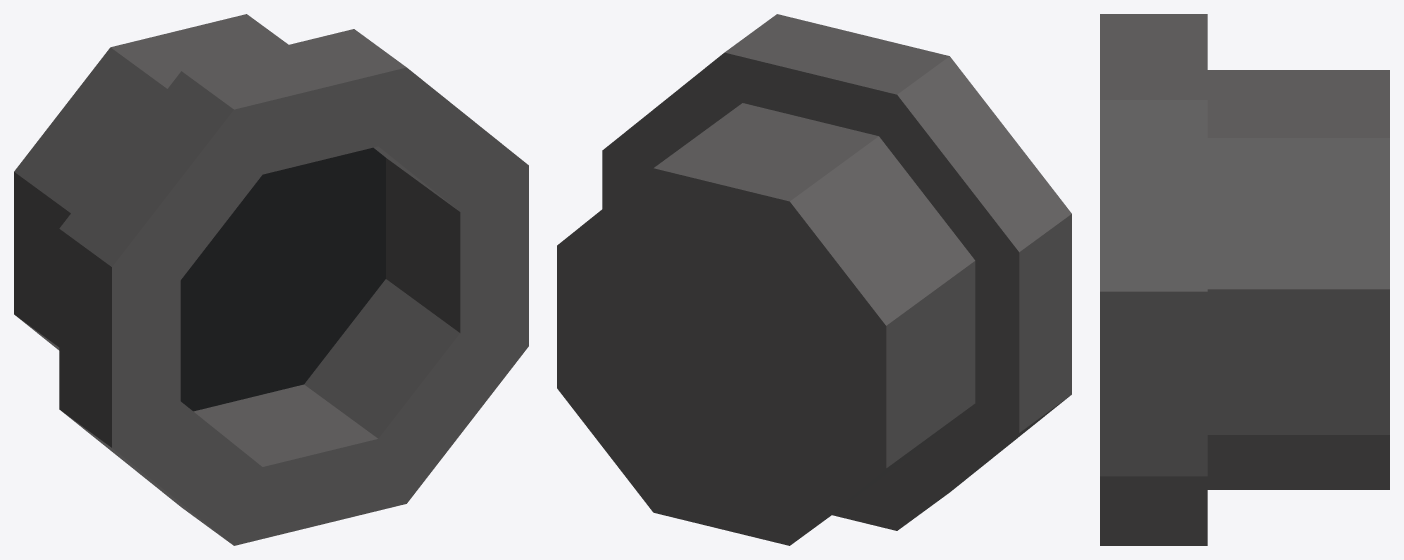
File: SM_Env_Pipe_01.fbx
The picture shows the model from 3 angles, left to right: view 1: azimuth 30°, elevation 25°; view 2: azimuth 150°, elevation 25°; view 3: azimuth 270°, elevation 25°; orthographic projection. The views are drawn at different scales.
Parts seen in each view (by area): view 1: SM_Env_Pipe_01; view 2: SM_Env_Pipe_01; view 3: SM_Env_Pipe_01.
Part boxes in pixels (x1,y1,x2,y2): SM_Env_Pipe_01: (14,14,528,545); SM_Env_Pipe_01: (557,14,1071,545); SM_Env_Pipe_01: (1100,14,1389,545).
Bounding box in the file's own units: 57.8 × 57.8 × 34.06.
